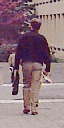person: (15, 15, 49, 115)
